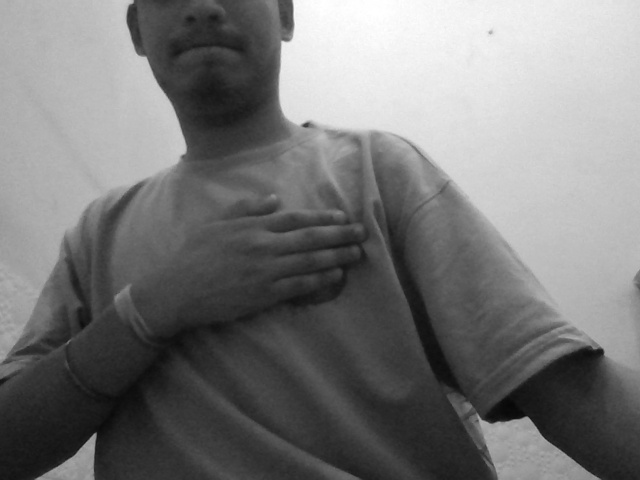Sorry: (141, 181, 379, 360)
